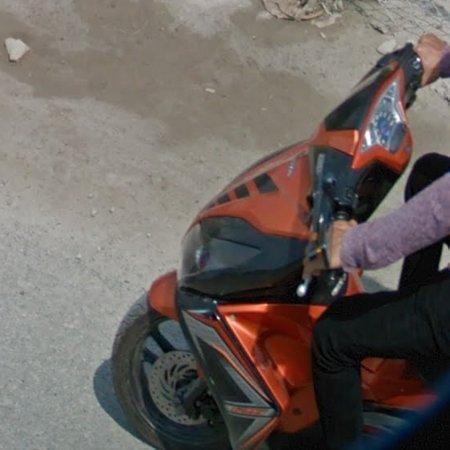motorcycles: (112, 45, 423, 450), (363, 359, 435, 440)
